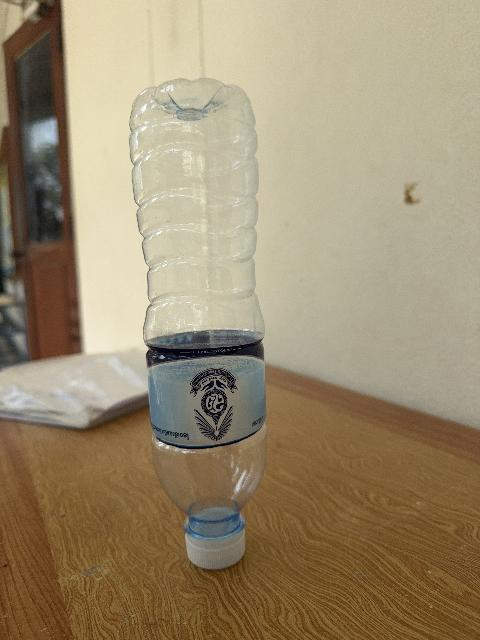bottle: (130, 79, 266, 568)
